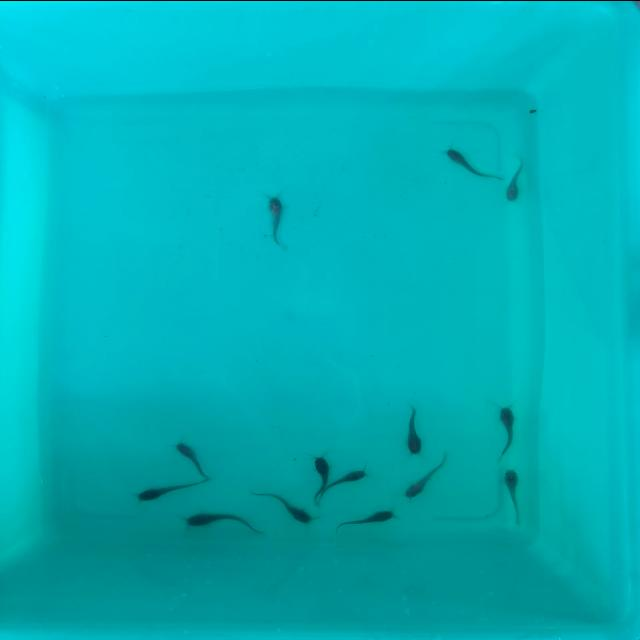lele: (248, 486, 312, 528), (402, 453, 454, 504), (439, 144, 501, 186), (192, 510, 266, 540), (172, 440, 214, 483), (336, 509, 398, 536), (137, 478, 196, 503), (320, 465, 368, 489), (504, 468, 524, 524), (503, 156, 527, 202), (405, 402, 425, 456), (496, 405, 516, 459), (266, 195, 285, 249), (314, 454, 334, 503)
